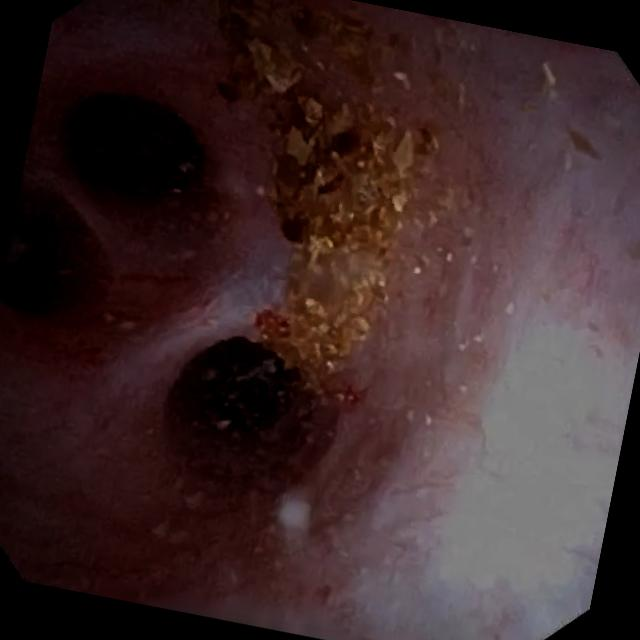stone-new: (238, 0, 432, 389)
